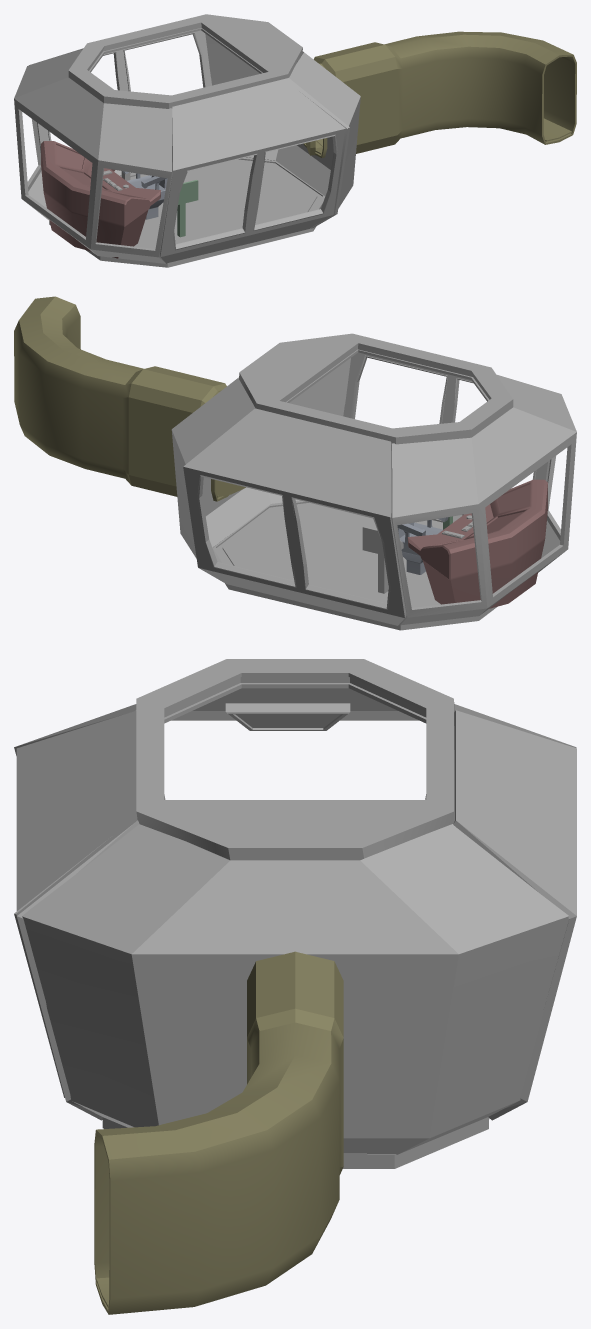
The model's file is MZPZ_GREYBOX_4.fbx.
The picture shows the model from 3 angles, top to bottom: view 1: azimuth 30°, elevation 25°; view 2: azimuth 150°, elevation 25°; view 3: azimuth 270°, elevation 25°; orthographic projection. The views are drawn at different scales.
Visible parts, largest first — view 1: polySurface23, polySurface26, Front_Wall, Ceiling, Floor, Main_Console, Rear_wall, polySurface39, Chair2, pCube4, polySurface24; view 2: polySurface23, polySurface39, Front_Wall, Ceiling, Floor, Main_Console, Rear_wall, polySurface26, Chair2, pCube22; view 3: Rear_wall, polySurface23, Ceiling, polySurface39, polySurface26, Front_Wall, pCube6, Floor.
Part boxes in pixels (box(x1,y1,x2,y2)): polySurface23: box(303, 31, 576, 157); polySurface26: box(160, 78, 349, 263); Front_Wall: box(14, 49, 172, 263); Ceiling: box(68, 14, 302, 108); Floor: box(49, 157, 325, 267); Main_Console: box(41, 141, 160, 258); Rear_wall: box(205, 33, 360, 228); polySurface39: box(29, 30, 211, 175); Chair2: box(122, 171, 167, 219); pCube4: box(177, 180, 198, 237); polySurface24: box(305, 118, 571, 154); polySurface23: box(14, 296, 228, 501); polySurface39: box(183, 408, 406, 625); Front_Wall: box(391, 375, 576, 625); Ceiling: box(239, 333, 513, 444); Floor: box(212, 500, 497, 630); Main_Console: box(407, 479, 547, 608); Rear_wall: box(171, 358, 350, 562); polySurface26: box(343, 352, 549, 521); Chair2: box(397, 517, 448, 574); pCube22: box(362, 526, 403, 593); Rear_wall: box(14, 824, 569, 1154); polySurface23: box(94, 951, 343, 1314); Ceiling: box(136, 659, 454, 860); polySurface39: box(453, 710, 576, 1120); polySurface26: box(16, 711, 139, 1120); Front_Wall: box(14, 688, 576, 799); pCube6: box(225, 703, 350, 730); Floor: box(102, 1117, 489, 1168).
Size of the model in its own units: 8630 by 2719 by 4574.
